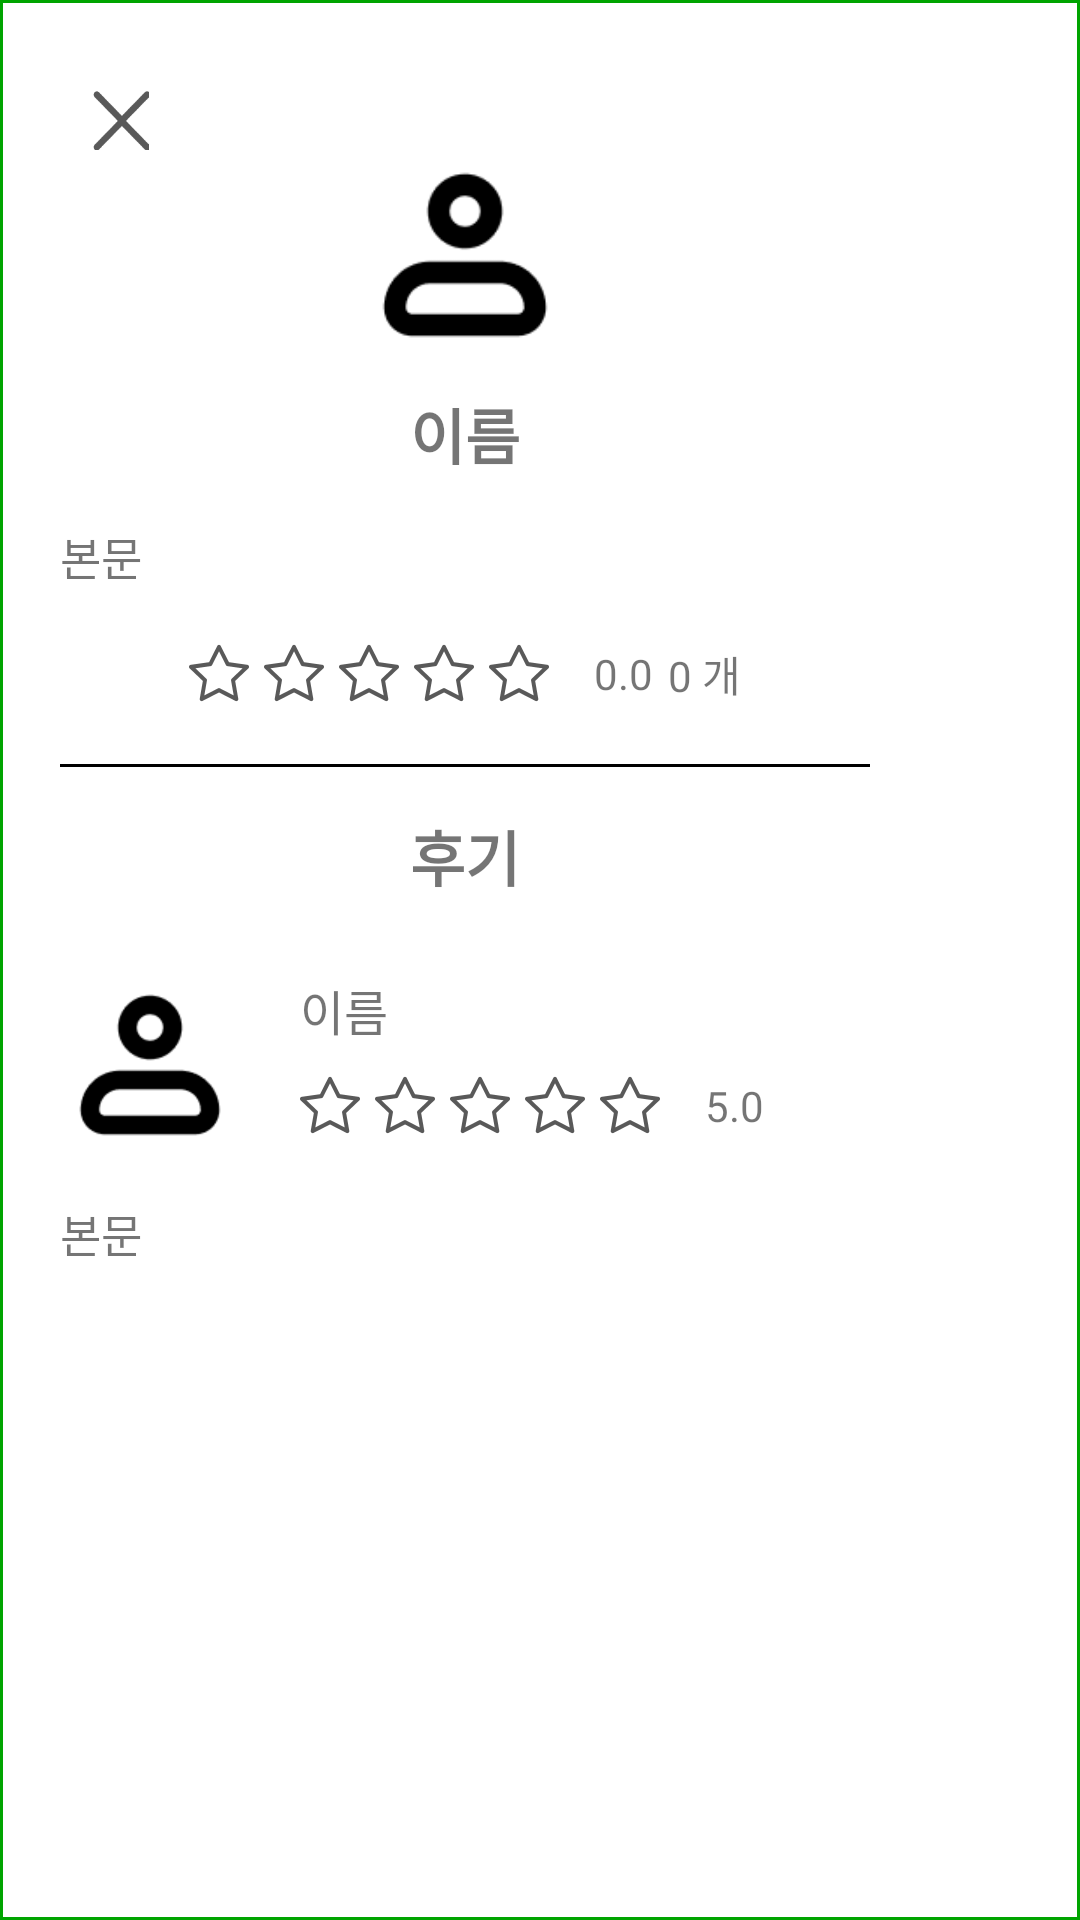

Screen size 1080 × 1920. Icon name, then its box in pixels as (x1, y1, x2, y2):
esc: (93, 91, 149, 150)
signprofile: (383, 173, 547, 337), (79, 994, 221, 1136)
